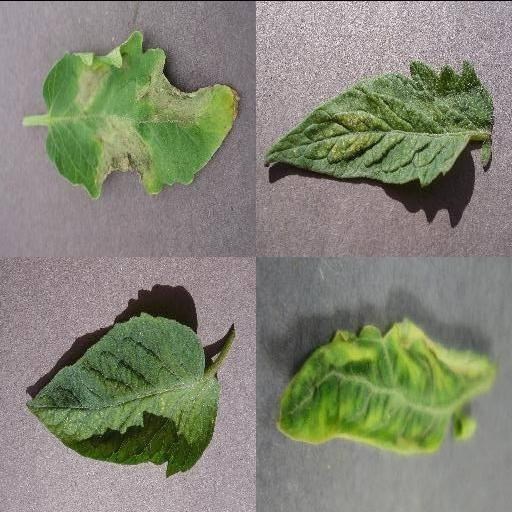Late Blight: (37, 30, 243, 196)
Spider Mites: (25, 311, 219, 477), (262, 61, 492, 185)
Yellow Leaf Curl Virus: (275, 316, 497, 452)
